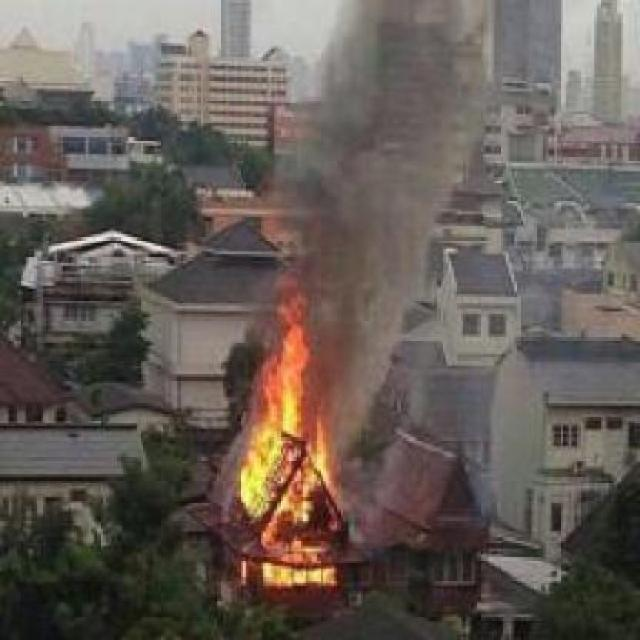Fire: (238, 288, 308, 506), (240, 556, 340, 589)
Smoke: (291, 0, 486, 284), (344, 287, 414, 448)
